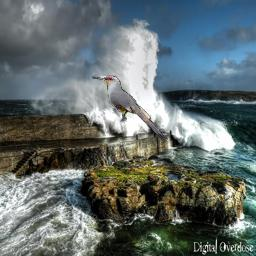Cuckoo: (92, 75, 168, 142)
